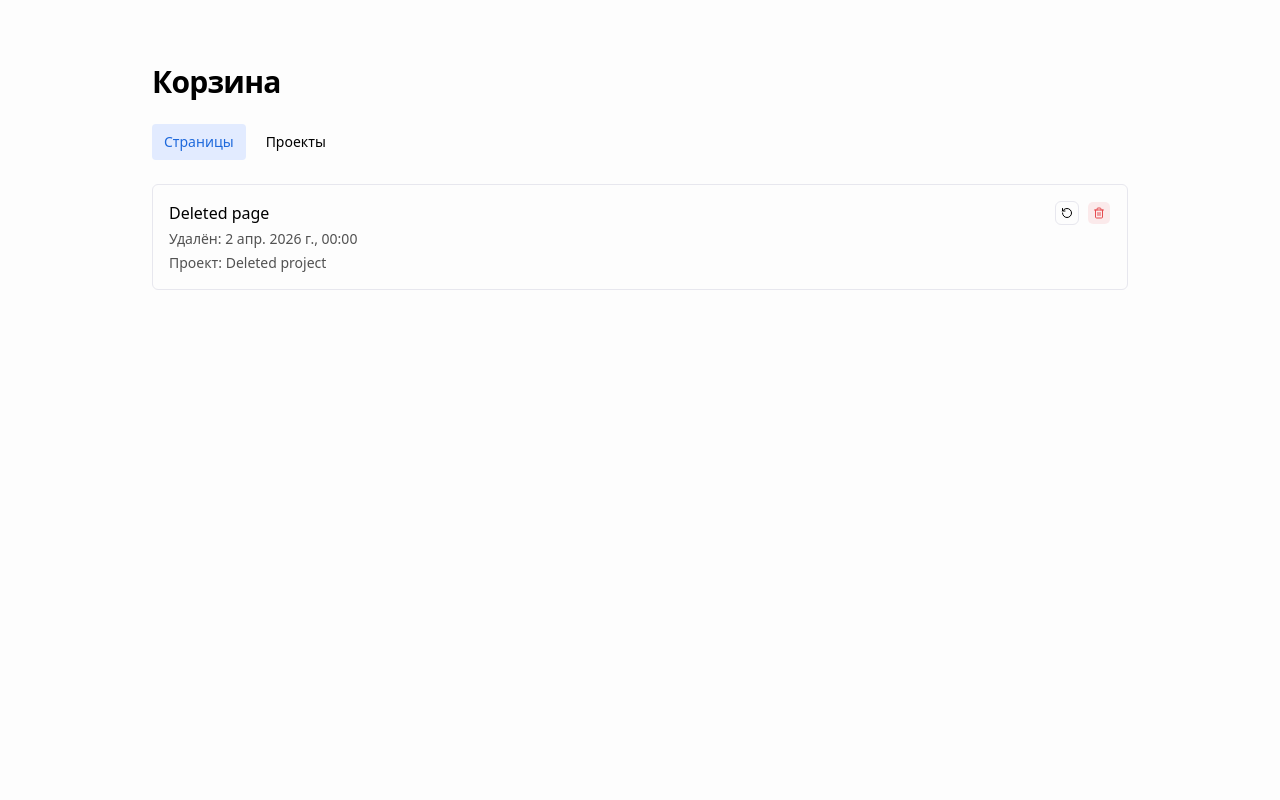
Test: корзина › не повторяет purge с cascade для некорректного 409
Click the button named "Удалить навсегда: Deleted page" at (1099, 213), box [1087,201,1111,225]
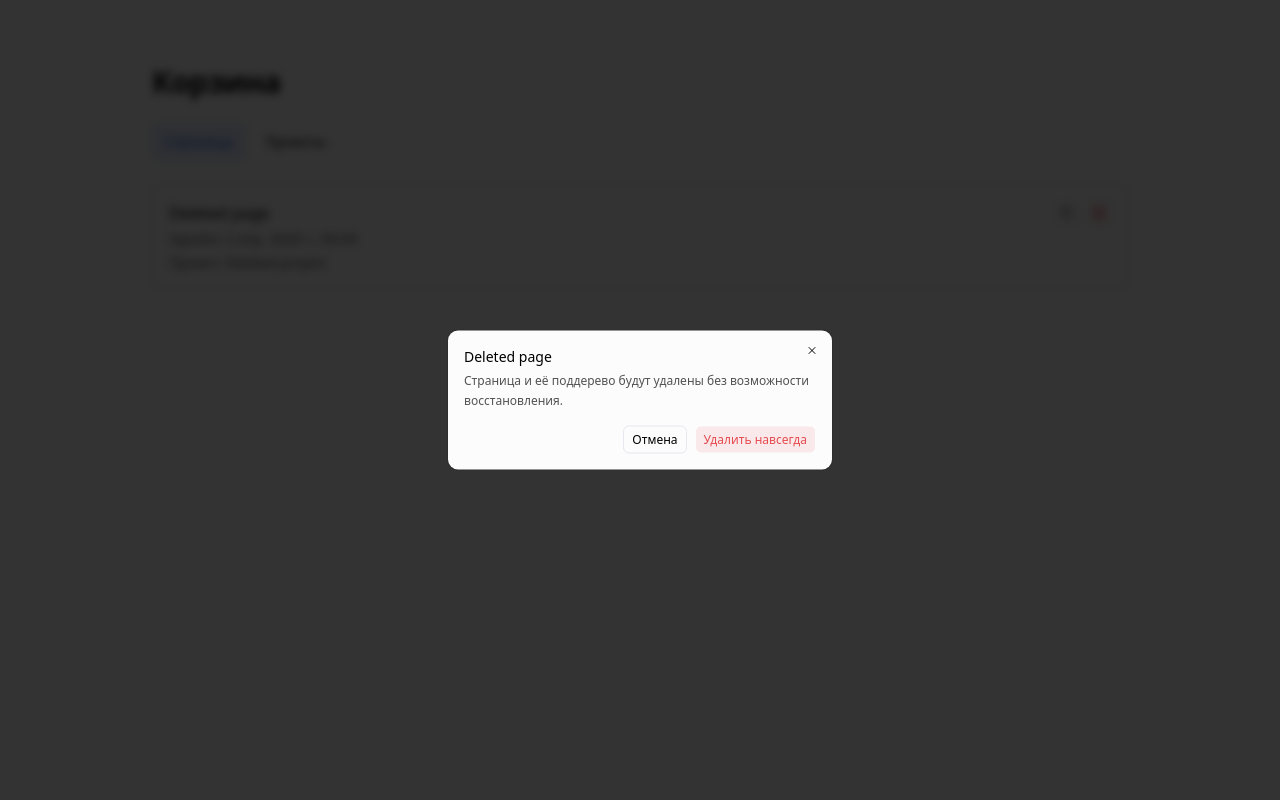
Click the button "Удалить навсегда" at (755, 440), box [694,426,816,454]
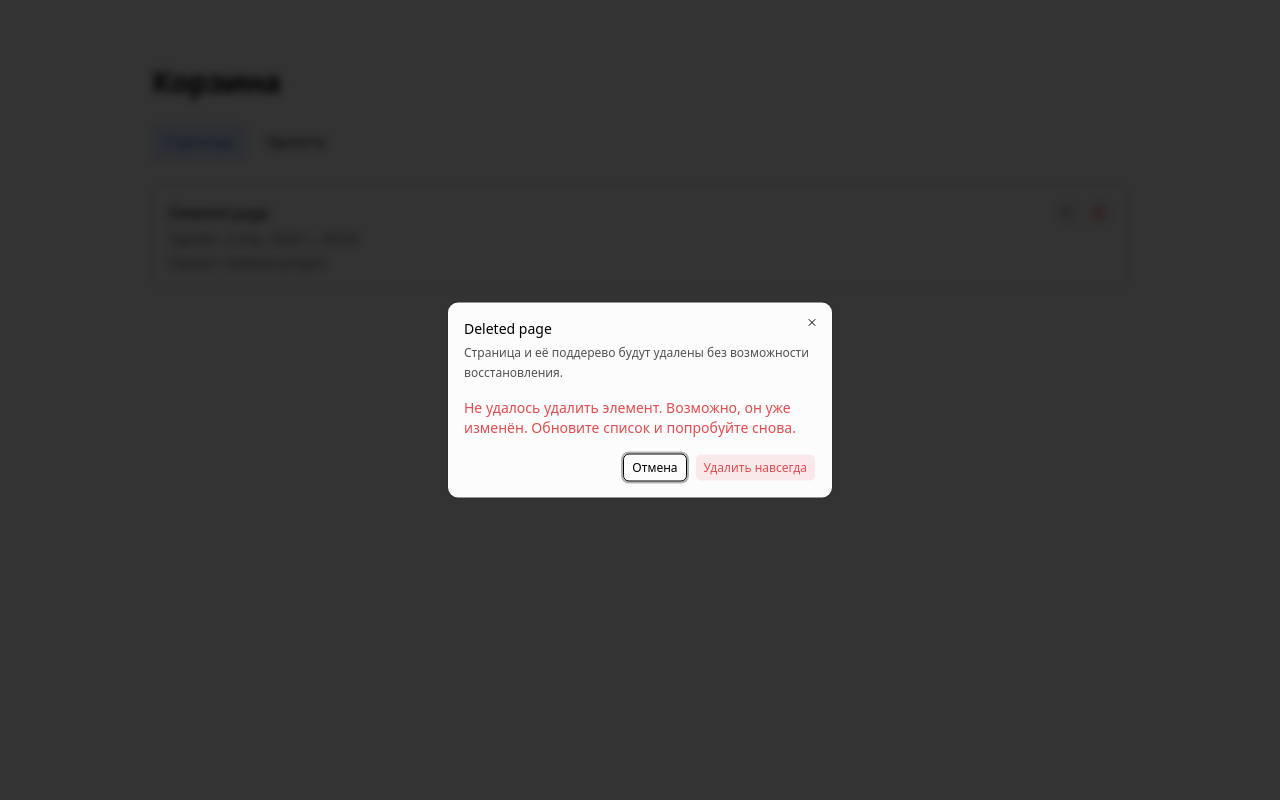
Result: the message shows "Не удалось удалить элемент" at [464,398,796,436]
